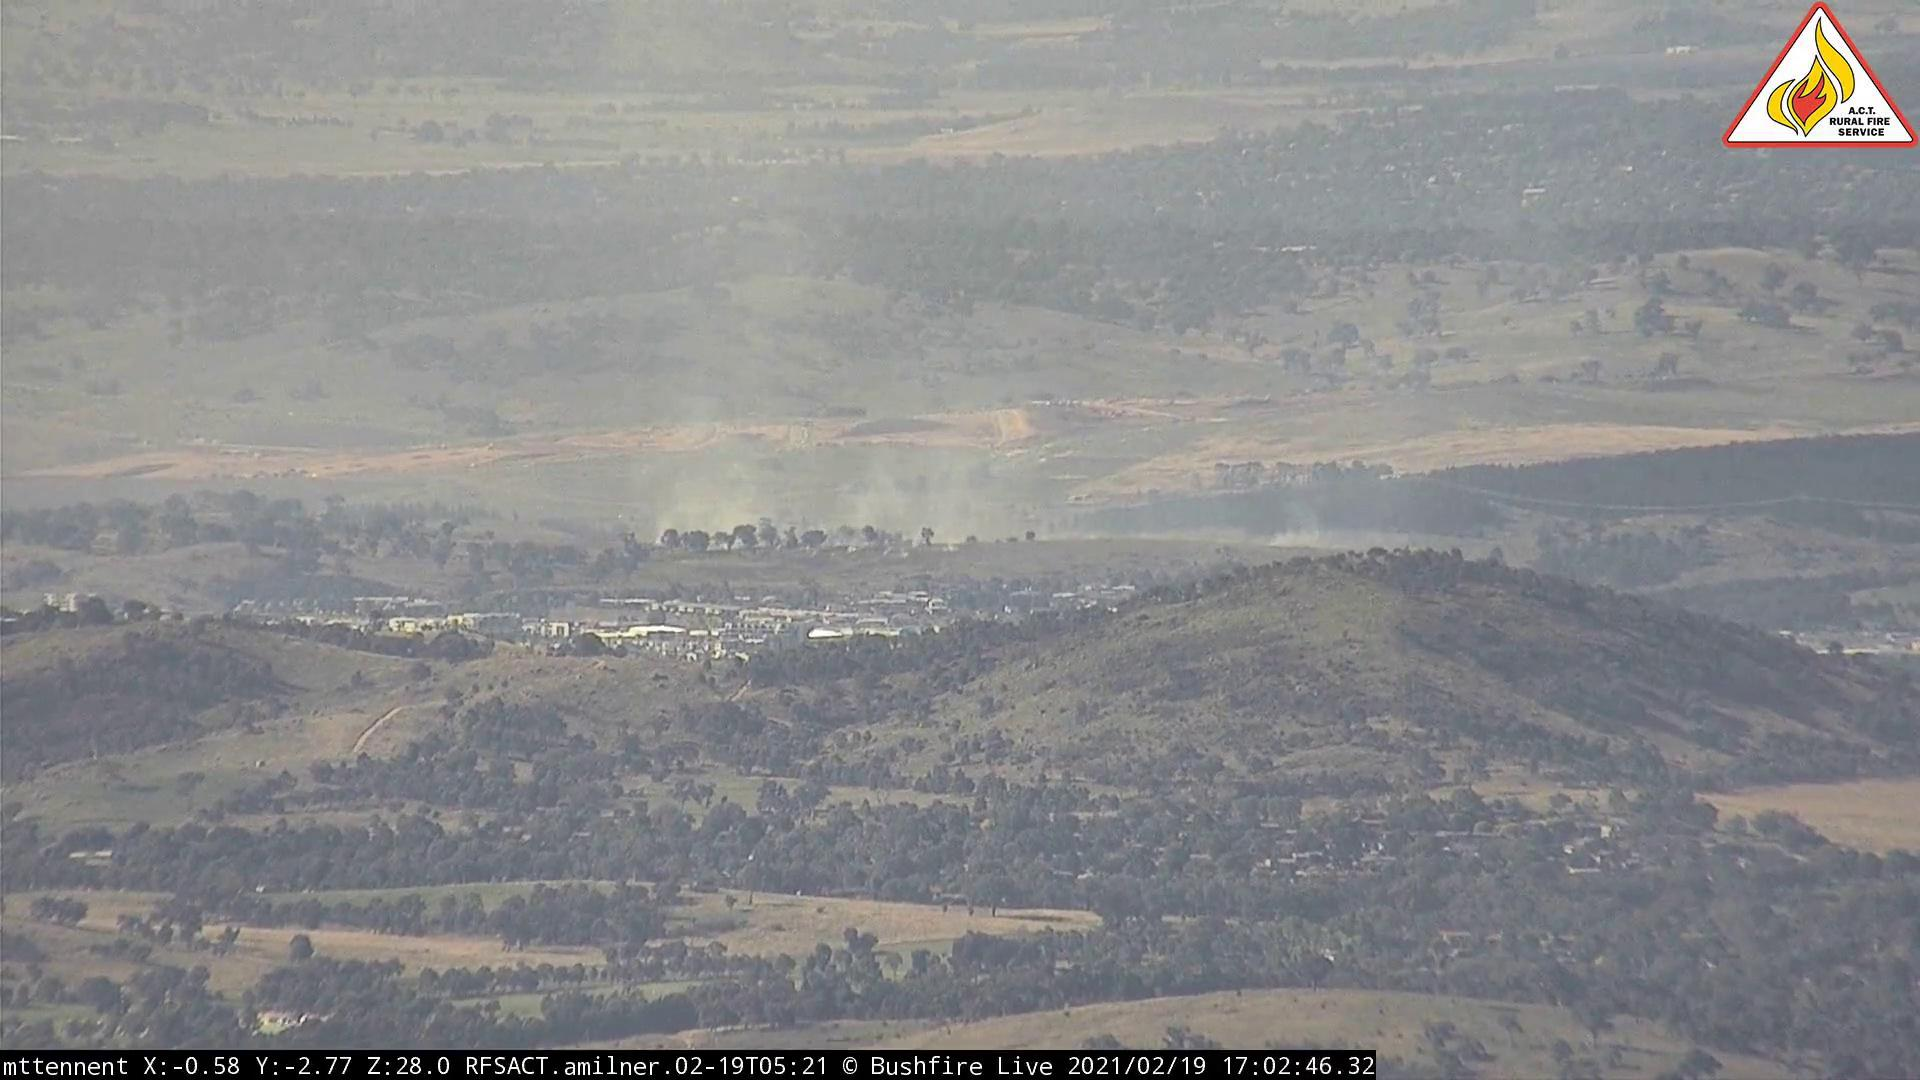Smoke: (615, 301, 1026, 550), (1255, 440, 1425, 553)
